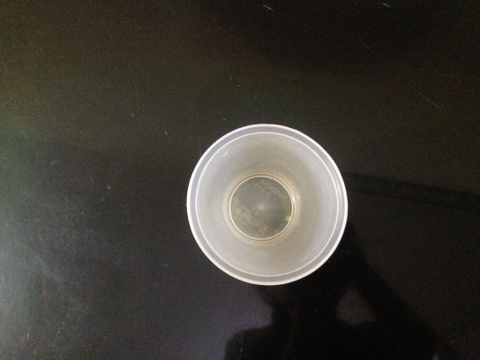tempat minum: (186, 123, 348, 286)
